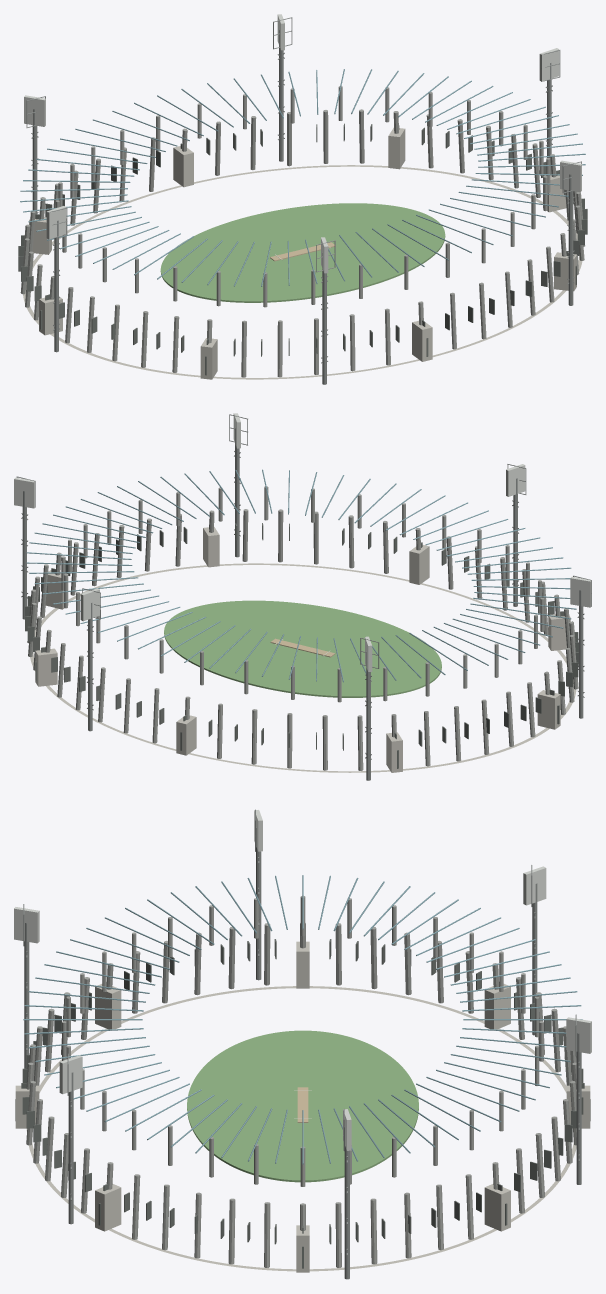
Rendered from eden_gardens_stadium.glb.
3 views of the same model, one above another, from view 1: azimuth 30°, elevation 25°; view 2: azimuth 150°, elevation 25°; view 3: azimuth 270°, elevation 25° (orthographic). The views are drawn at different scales.
Visible parts, largest first — view 1: Oval playing field, Outer concrete stadium shell, Stadium entrance portal_2, Stadium entrance portal_6, Floodlight mast_5, Stadium entrance portal_1, Stadium entrance portal_5, Stadium entrance portal_4, Floodlight lamp array_5, Floodlight lamp array_2, Floodlight mast_3, Floodlight lamp array (+7 smaller); view 2: Oval playing field, Outer concrete stadium shell, Stadium entrance portal_4, Stadium entrance portal_6, Stadium entrance portal_2, Stadium entrance portal_1, Stadium entrance portal_5, Stadium entrance portal_7, Floodlight lamp array_3, Floodlight mast_3, Floodlight mast_1, Stadium entrance portal_3 (+8 smaller); view 3: Oval playing field, Outer concrete stadium shell, Stadium entrance portal_1, Stadium entrance portal_7, Stadium entrance portal_3, Stadium entrance portal_5, Floodlight lamp array_1, Floodlight mast_5, Floodlight mast_1, Floodlight lamp array_4, Floodlight lamp array_2, Floodlight mast (+5 smaller).
Boxes of the visible parts, box(x1,y1,x2,y2) form: Oval playing field: box(160, 203, 445, 302); Outer concrete stadium shell: box(23, 165, 582, 379); Stadium entrance portal_2: box(173, 146, 193, 187); Stadium entrance portal_6: box(412, 320, 432, 361); Floodlight mast_5: box(568, 174, 573, 305); Stadium entrance portal_1: box(388, 127, 405, 169); Stadium entrance portal_5: box(200, 338, 217, 379); Stadium entrance portal_4: box(39, 296, 62, 335); Floodlight lamp array_5: box(560, 160, 581, 192); Floodlight lamp array_2: box(24, 95, 45, 126); Floodlight mast_3: box(54, 220, 58, 352); Floodlight lamp array: box(539, 48, 559, 81); Oval playing field: box(164, 600, 441, 697); Outer concrete stadium shell: box(30, 563, 576, 772); Stadium entrance portal_4: box(537, 690, 560, 729); Stadium entrance portal_6: box(409, 545, 429, 584); Stadium entrance portal_2: box(176, 715, 196, 755); Stadium entrance portal_1: box(35, 648, 57, 686); Stadium entrance portal_5: box(548, 614, 570, 650); Stadium entrance portal_7: box(203, 527, 219, 567); Floodlight lamp array_3: box(570, 576, 591, 607); Floodlight mast_3: box(579, 590, 583, 718); Floodlight mast_1: box(88, 603, 92, 731); Stadium entrance portal_3: box(386, 732, 402, 772); Oval playing field: box(187, 1030, 418, 1182); Outer concrete stadium shell: box(26, 986, 576, 1271); Stadium entrance portal_1: box(484, 1184, 510, 1231); Stadium entrance portal_7: box(95, 1184, 121, 1231); Stadium entrance portal_3: box(484, 984, 510, 1029); Stadium entrance portal_5: box(95, 984, 121, 1029); Floodlight lamp array_1: box(566, 1017, 591, 1053); Floodlight mast_5: box(68, 1072, 73, 1224); Floodlight mast_1: box(576, 1033, 581, 1184); Floodlight lamp array_4: box(14, 907, 39, 943); Floodlight lamp array_2: box(523, 866, 546, 905); Floodlight mast: box(344, 1127, 349, 1279).
Size of the model in its own units: 215 by 53.16 by 169.
